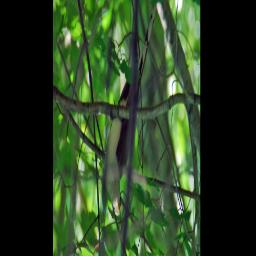Cuckoo: (103, 0, 161, 219)
